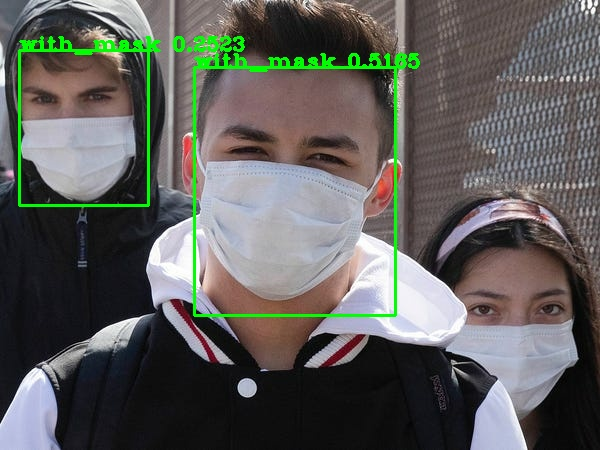with_mask: (193, 11, 420, 309), (2, 2, 180, 215), (424, 202, 600, 402)
